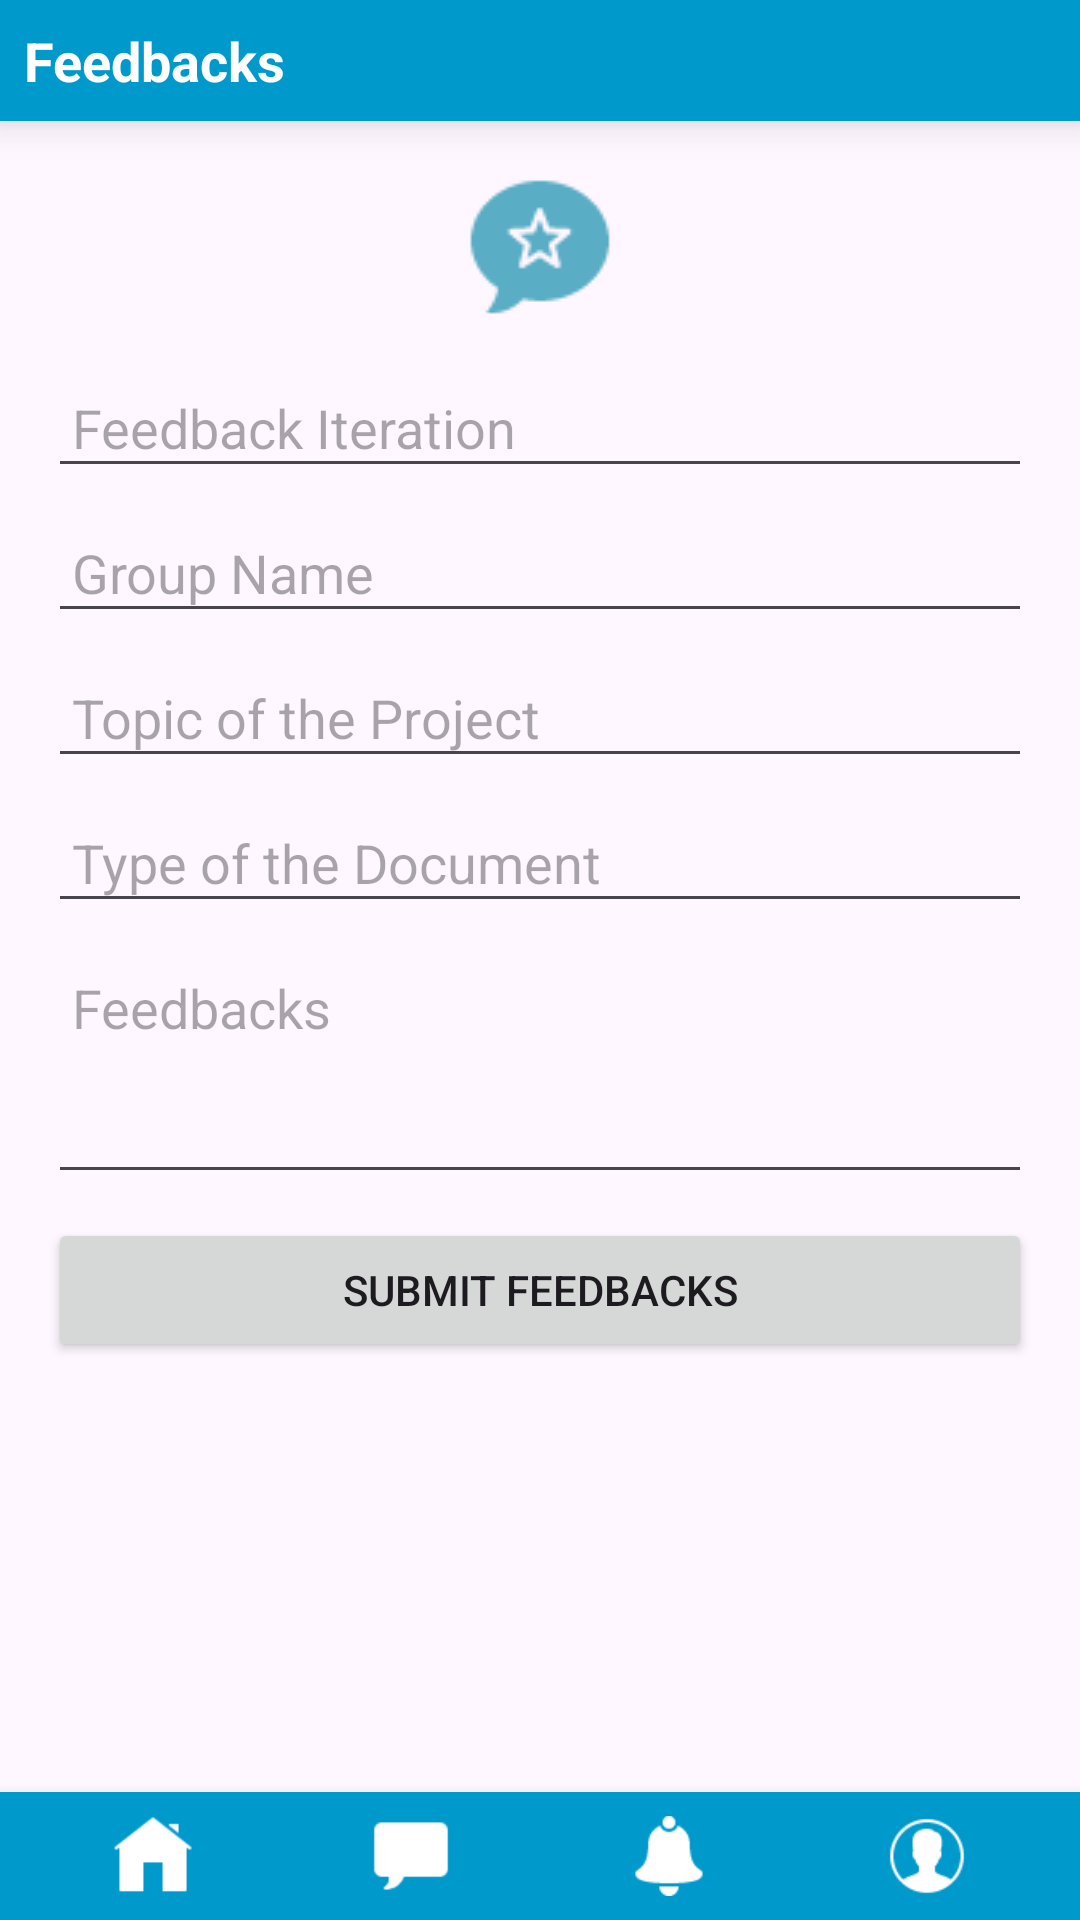

Screen size 1080 × 1920. Icon name, then its box in pixels as detection(x1, y1, x2, y2):
chat: detection(374, 1822, 448, 1890)
home: detection(114, 1817, 192, 1892)
noti: detection(635, 1816, 703, 1896)
profile: detection(890, 1819, 964, 1893)
